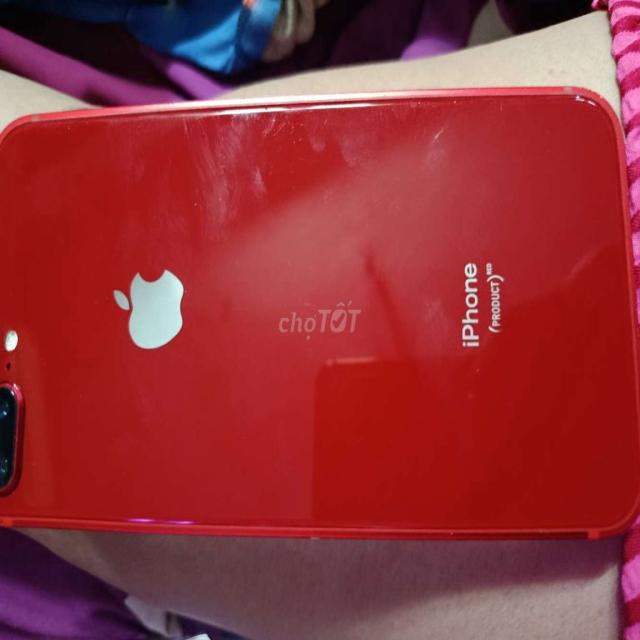gen_7_8: (0, 88, 639, 537)
scratch: (179, 94, 612, 238), (1, 369, 40, 410), (470, 362, 490, 388), (58, 120, 78, 142), (178, 286, 198, 306), (93, 229, 111, 248), (148, 207, 163, 224), (104, 293, 115, 309), (80, 112, 89, 126)
